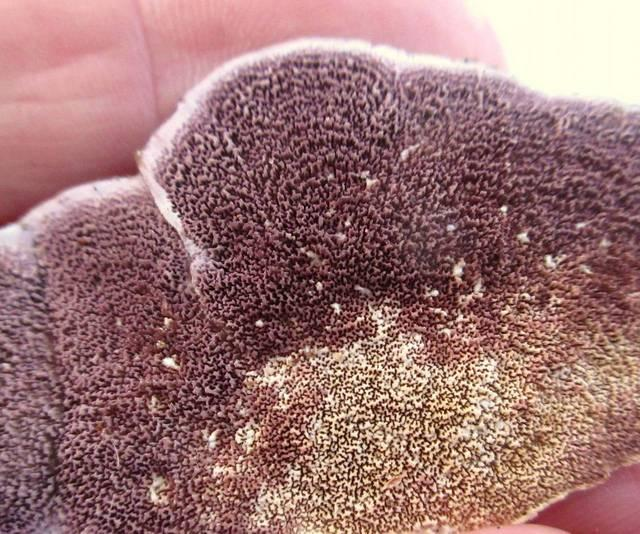Non-edible Mushroom: (0, 35, 639, 533)
